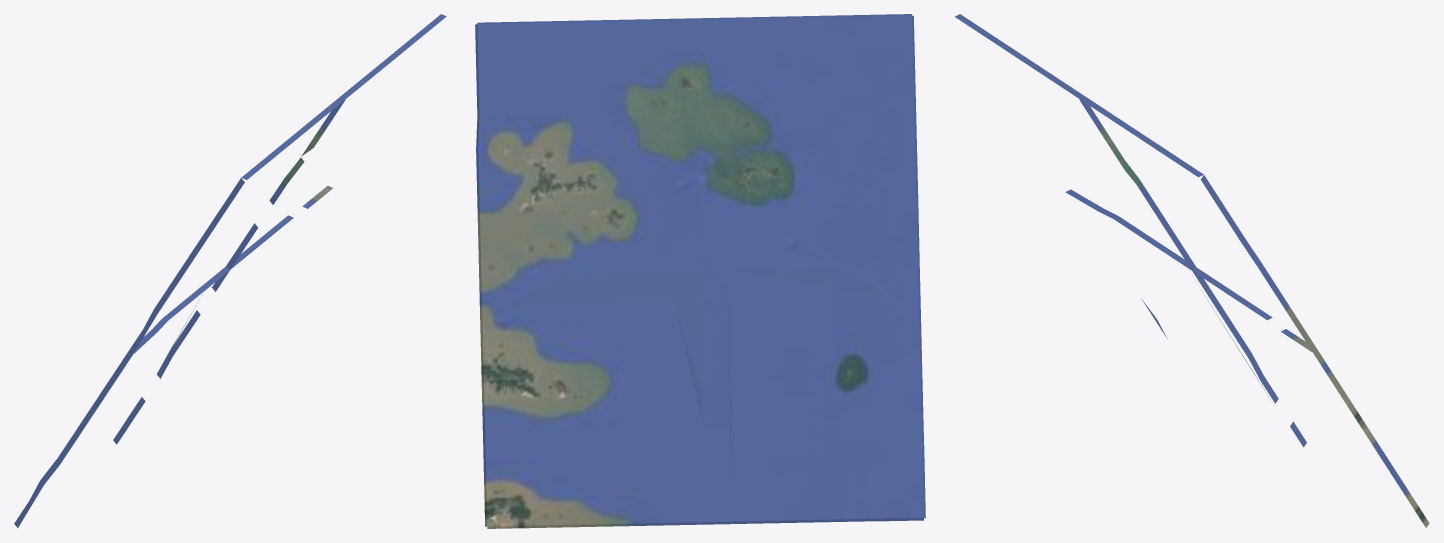
3 views of the same model, side by side, from view 1: azimuth 30°, elevation 25°; view 2: azimuth 150°, elevation 25°; view 3: azimuth 270°, elevation 25° (orthographic). The views are drawn at different scales.
Size of the model in its own units: 78881 by 68322 by 71019.
1 material, 1 textured.
